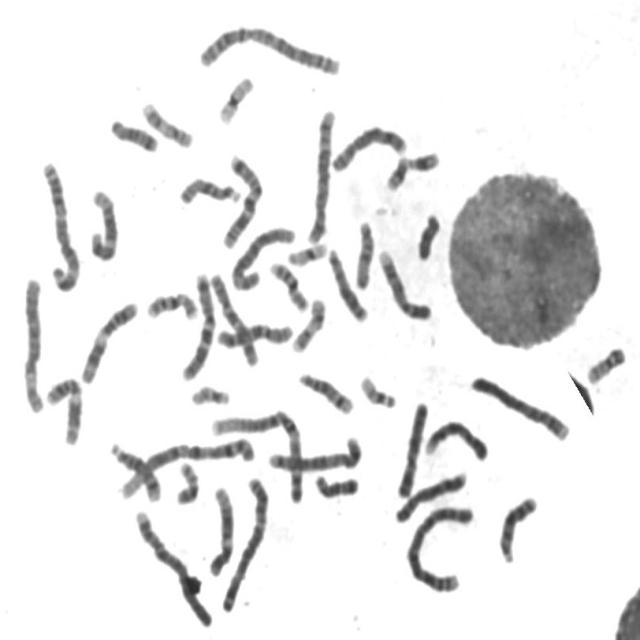A1: (111, 432, 259, 502), (205, 404, 307, 505)
A2: (194, 17, 344, 77), (401, 498, 478, 596)
A3: (217, 472, 271, 614), (37, 154, 83, 294)
B4: (129, 503, 215, 631), (466, 369, 573, 443)
B5: (302, 102, 336, 246), (263, 431, 365, 474)
C10: (204, 266, 261, 368), (212, 315, 296, 350)
C11: (76, 295, 140, 385), (40, 370, 84, 447)
C12: (202, 480, 235, 578), (84, 182, 121, 262)
C6: (226, 220, 296, 293), (18, 269, 48, 416)
C7: (217, 147, 265, 250), (176, 266, 216, 384)
C8: (390, 464, 470, 525), (325, 118, 410, 174)
C9: (374, 244, 434, 322), (420, 414, 490, 463)
D13: (323, 242, 371, 324), (494, 489, 540, 566)
D14: (105, 436, 164, 503), (294, 366, 355, 416)
D15: (174, 170, 244, 208), (349, 214, 377, 291)
E16: (265, 255, 310, 313), (142, 286, 200, 322)
E17: (136, 95, 195, 149), (287, 292, 328, 355)
E18: (105, 111, 160, 154), (310, 469, 361, 500)
F19: (213, 70, 256, 126), (282, 235, 330, 267)
F20: (582, 340, 629, 386), (171, 455, 201, 506)
G21: (403, 146, 448, 174), (385, 151, 415, 192)
G22: (354, 369, 398, 411), (186, 378, 232, 408)
X: (391, 395, 431, 500)
Y: (411, 210, 443, 265)
